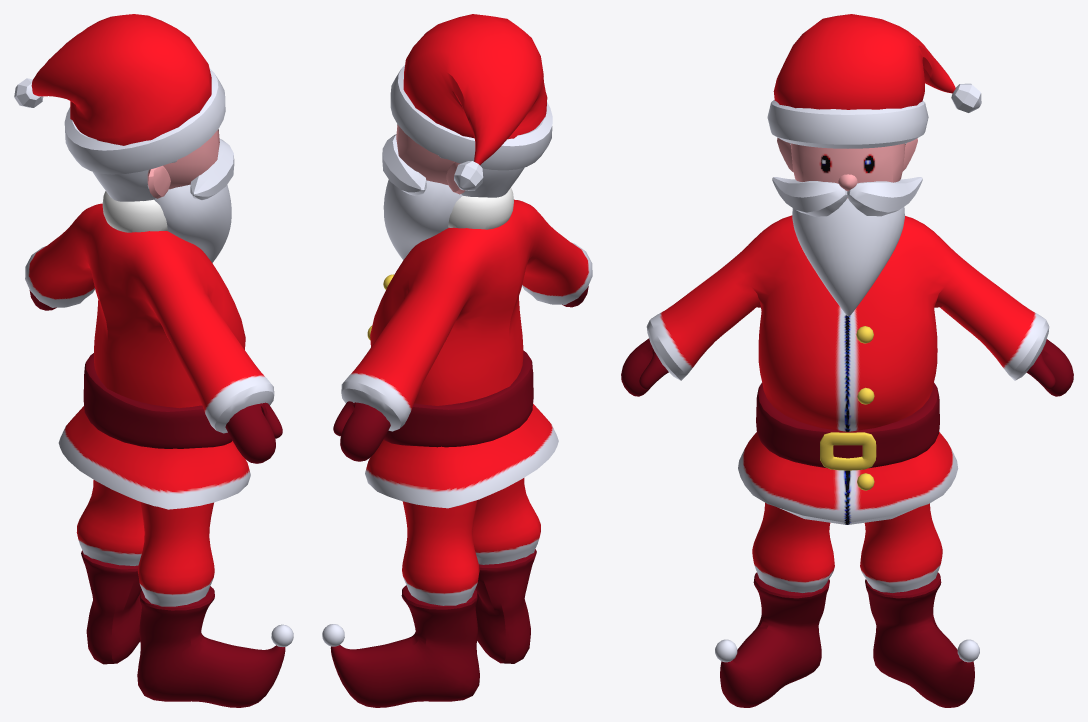
Rendered from Santa.fbx.
3 views of the same model, side by side, from view 1: azimuth 30°, elevation 25°; view 2: azimuth 150°, elevation 25°; view 3: azimuth 270°, elevation 25° (orthographic).
Visible parts, largest first — view 1: Santa; view 2: Santa; view 3: Santa.
Part boxes in pixels (x1=…): Santa: x1=14, y1=14, x2=293, y2=707; Santa: x1=322, y1=14, x2=592, y2=707; Santa: x1=621, y1=14, x2=1073, y2=707.
Bounding box in the file's own units: 37.29 × 140 × 87.21.
